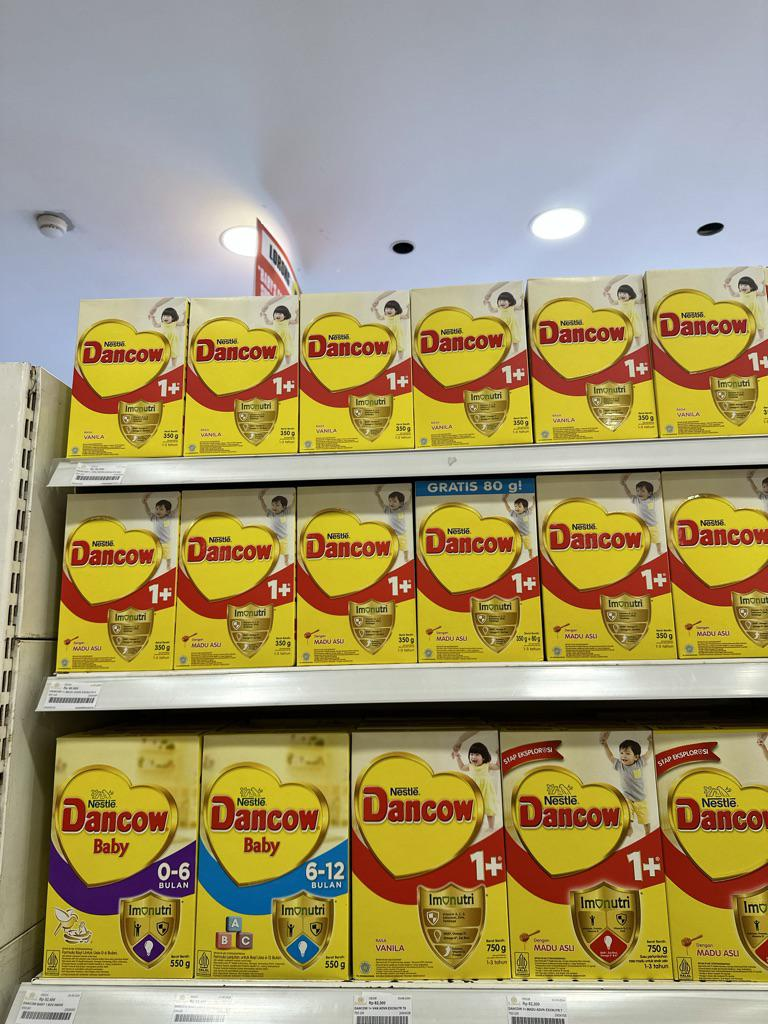DANCOW 1+ Madu Advn ExcNutr 24x400g N1 ID_REDESIGN3: (540, 471, 672, 659), (296, 482, 417, 663), (176, 486, 296, 668), (60, 490, 178, 671)
DANCOW 1+ Van Advn ExcNutr 12x800g N1 ID_REDESIGN3: (351, 728, 509, 981)
DANCOW 1+ Van Advn ExcNutr 24x400g ID_REDESIGN3: (531, 276, 658, 441), (412, 283, 532, 447), (653, 268, 767, 436), (184, 297, 301, 455), (299, 290, 414, 450), (71, 298, 185, 456)
